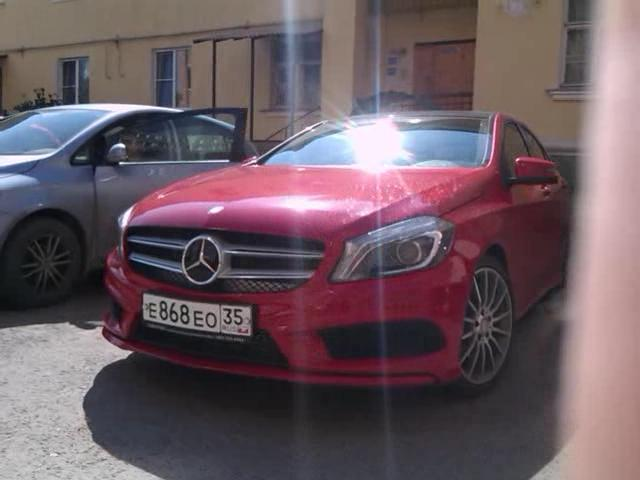car license plate: (138, 292, 256, 345)
